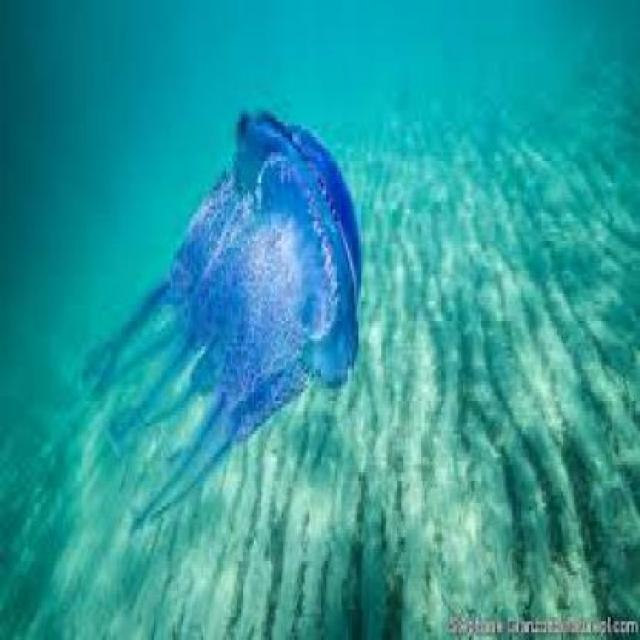Jellyfish: (77, 95, 376, 503)
